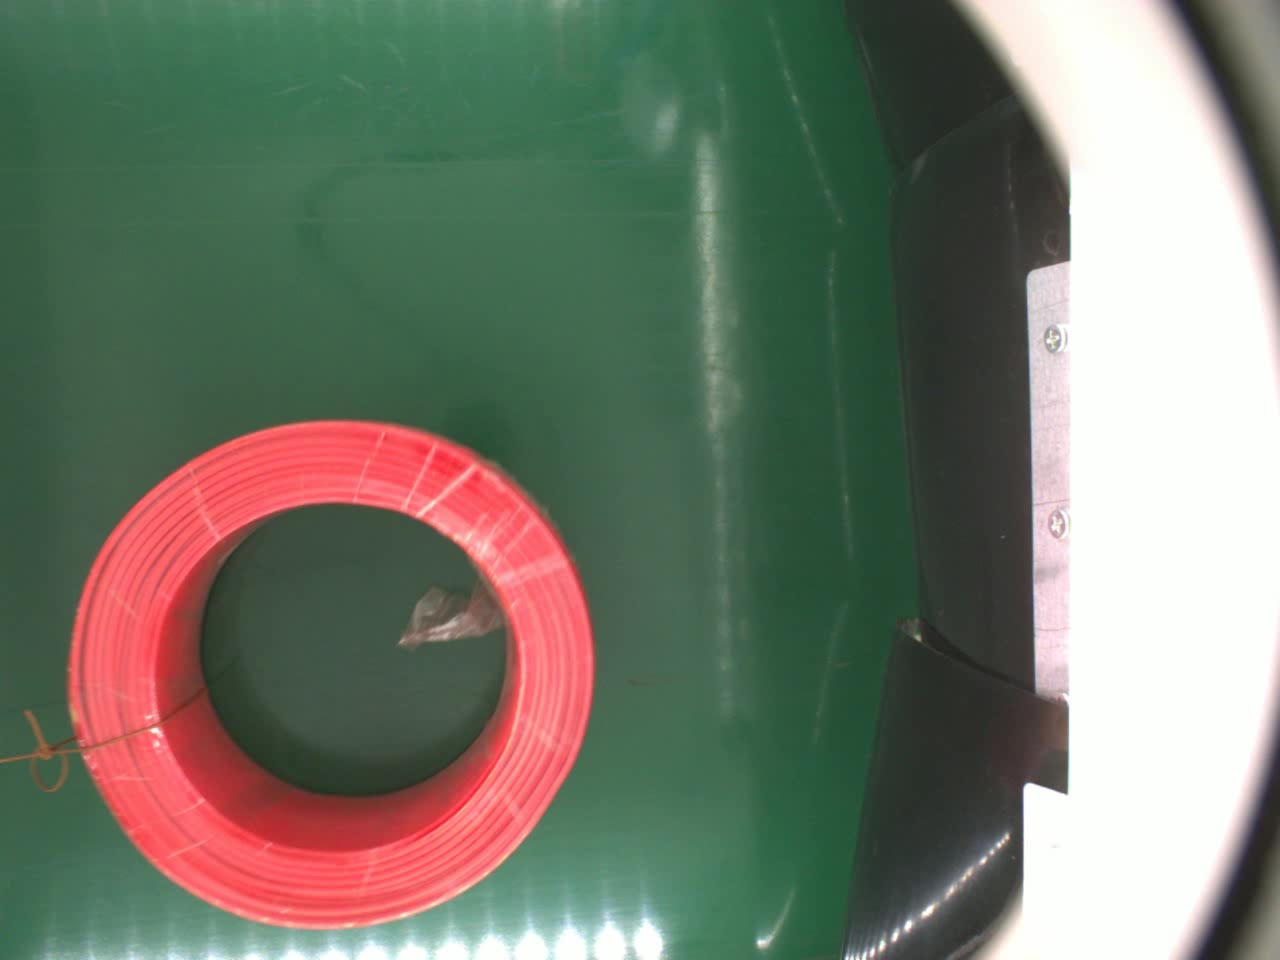red: (61, 417, 595, 931)
